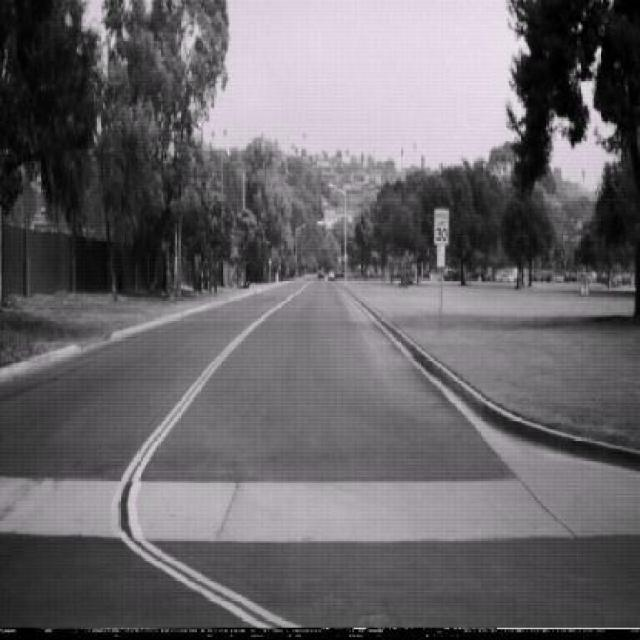speedLimit30: (434, 208, 449, 245)
